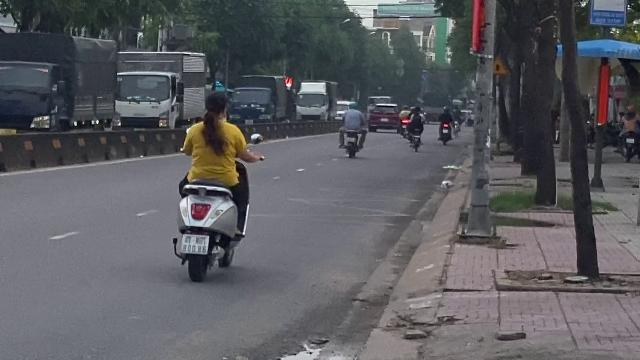licenseplate: (180, 235, 208, 253)
motorcyclist: (168, 87, 255, 283)
nohelmet: (202, 90, 228, 124)
